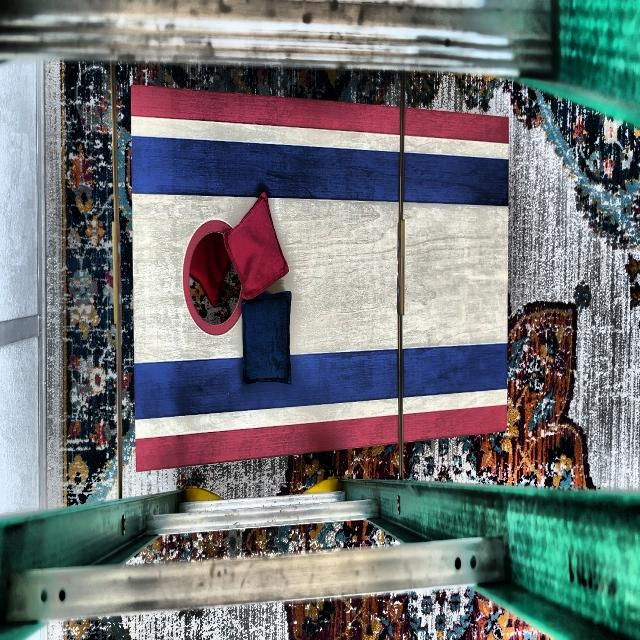blue-bean-bag: (241, 292, 291, 385)
board: (135, 119, 506, 432)
hole: (182, 219, 250, 336)
red-bean-bag: (223, 192, 290, 300)
red-bean-bag-in-hole: (189, 233, 231, 306)
